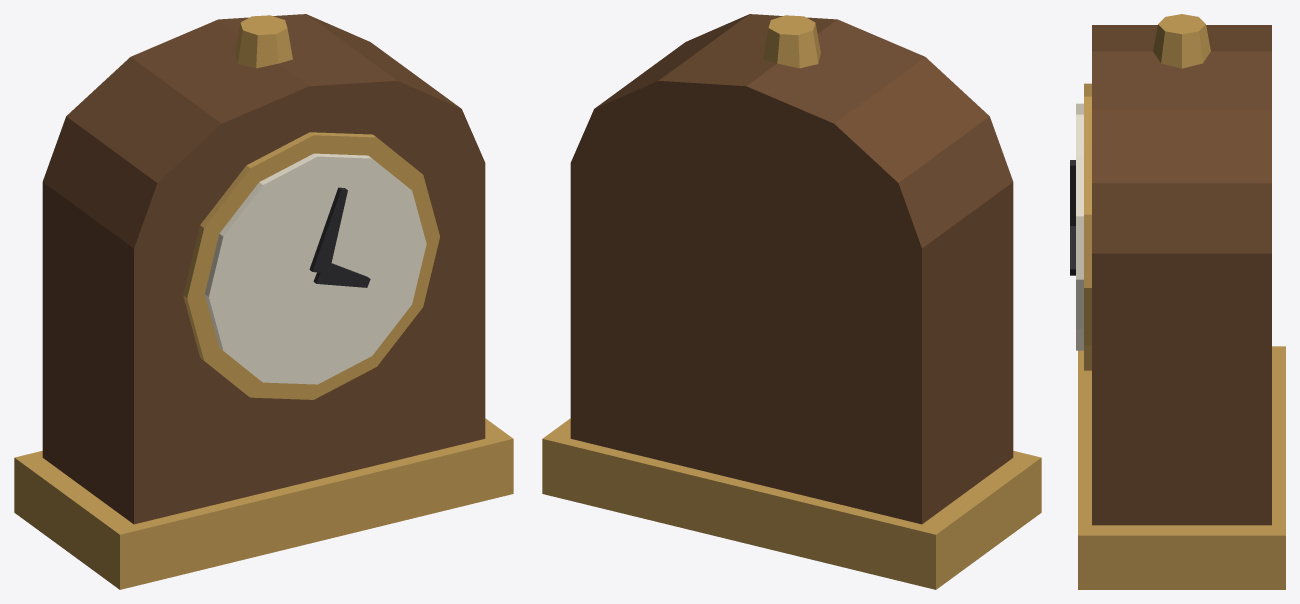
The model's file is FN_Clock_Table.obj.
3 views of the same model, side by side, from view 1: azimuth 30°, elevation 25°; view 2: azimuth 150°, elevation 25°; view 3: azimuth 270°, elevation 25° (orthographic).
Visible parts, largest first — view 1: FN_Clock_Table; view 2: FN_Clock_Table; view 3: FN_Clock_Table.
Part boxes in pixels (x1=…): FN_Clock_Table: x1=14, y1=14, x2=513, y2=589; FN_Clock_Table: x1=542, y1=14, x2=1041, y2=589; FN_Clock_Table: x1=1070, y1=14, x2=1285, y2=589.
Bounding box in the file's own units: 0.224 × 0.26 × 0.108.
Materials: 1 (1 with a texture image).
